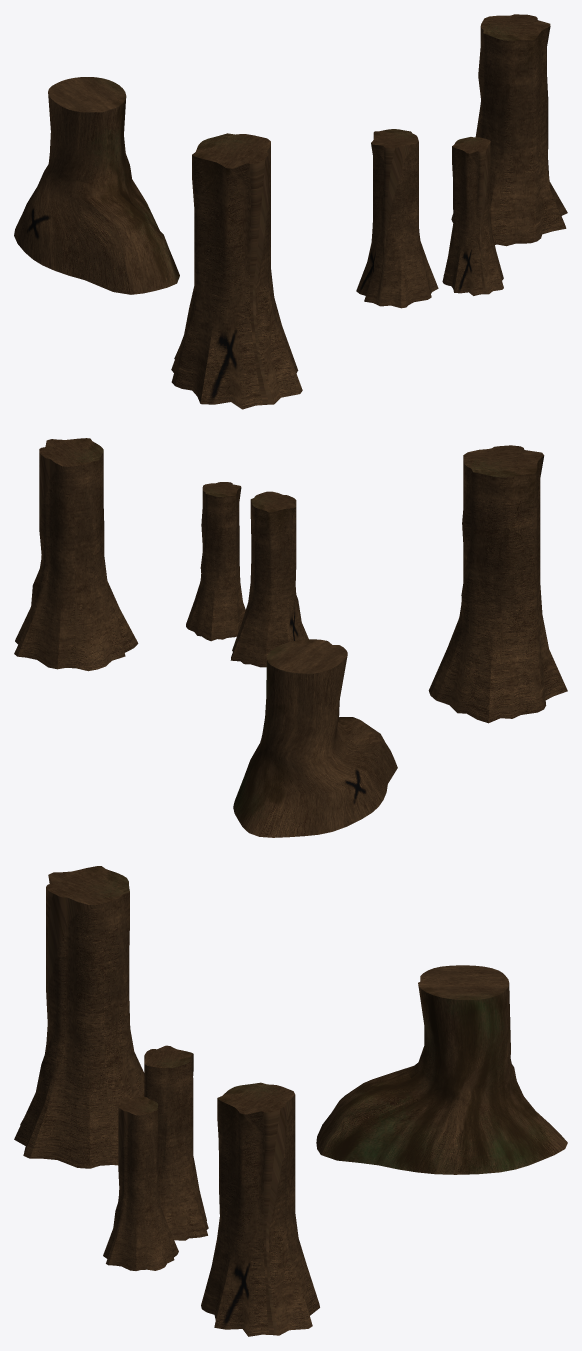
Rendered from pokemon_trees.fbx.
3 renders of one model, top to bottom at view 1: azimuth 30°, elevation 25°; view 2: azimuth 150°, elevation 25°; view 3: azimuth 270°, elevation 25°, orthographic. The views are drawn at different scales.
Visible parts, largest first — view 1: tree.02, big tree.01, tree.05, tree.04, tree.03; view 2: tree.02, big tree.01, tree.05, tree.04, tree.03; view 3: big tree.01, tree.02, tree.05, tree.03, tree.04.
Part boxes in pixels (<box>): tree.02: <box>171,133,302,409</box>; big tree.01: <box>14,77,179,294</box>; tree.05: <box>451,14,567,246</box>; tree.04: <box>356,129,438,308</box>; tree.03: <box>442,137,503,295</box>; tree.02: <box>428,445,567,723</box>; big tree.01: <box>233,639,397,837</box>; tree.05: <box>14,438,138,671</box>; tree.04: <box>230,491,308,667</box>; tree.03: <box>186,482,245,641</box>; big tree.01: <box>316,965,567,1174</box>; tree.02: <box>14,866,144,1168</box>; tree.05: <box>201,1082,319,1336</box>; tree.03: <box>103,1097,178,1270</box>; tree.04: <box>144,1045,208,1240</box>.
Bounding box in the file's own units: 25513 × 12311 × 24594.
